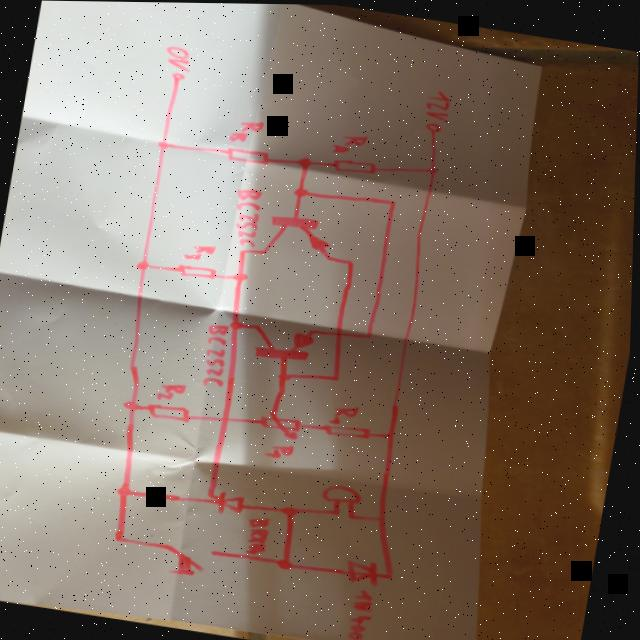crossover: (221, 411, 237, 425), (336, 326, 349, 339)
diode: (346, 555, 386, 586)
junction: (280, 555, 300, 571), (285, 502, 304, 517), (125, 398, 145, 412), (119, 483, 138, 497), (235, 268, 253, 282), (299, 153, 316, 167), (137, 257, 154, 271), (279, 368, 296, 381), (295, 184, 312, 196), (232, 317, 248, 329), (385, 570, 400, 582), (427, 162, 442, 174), (158, 137, 173, 149), (116, 532, 131, 542), (334, 506, 347, 516), (378, 512, 391, 522), (387, 429, 400, 439), (333, 371, 345, 381), (348, 256, 360, 265), (389, 196, 401, 205), (351, 510, 362, 519), (366, 331, 377, 338), (239, 245, 248, 253)
resistor: (261, 408, 307, 440), (147, 399, 197, 422), (325, 418, 377, 440), (227, 143, 273, 166), (333, 153, 381, 175), (178, 260, 223, 280)
switch: (165, 541, 221, 578)
terminal: (425, 117, 446, 135), (170, 69, 188, 83)
text: (201, 320, 238, 387), (229, 183, 268, 246), (347, 585, 382, 640), (247, 512, 277, 555), (229, 114, 268, 145), (332, 128, 372, 156), (424, 87, 456, 120), (164, 42, 196, 71), (331, 399, 364, 426), (158, 378, 191, 402), (185, 240, 220, 262), (266, 439, 300, 459)
thyristor: (207, 486, 252, 517)
transistor: (262, 209, 341, 265), (252, 317, 321, 364)
